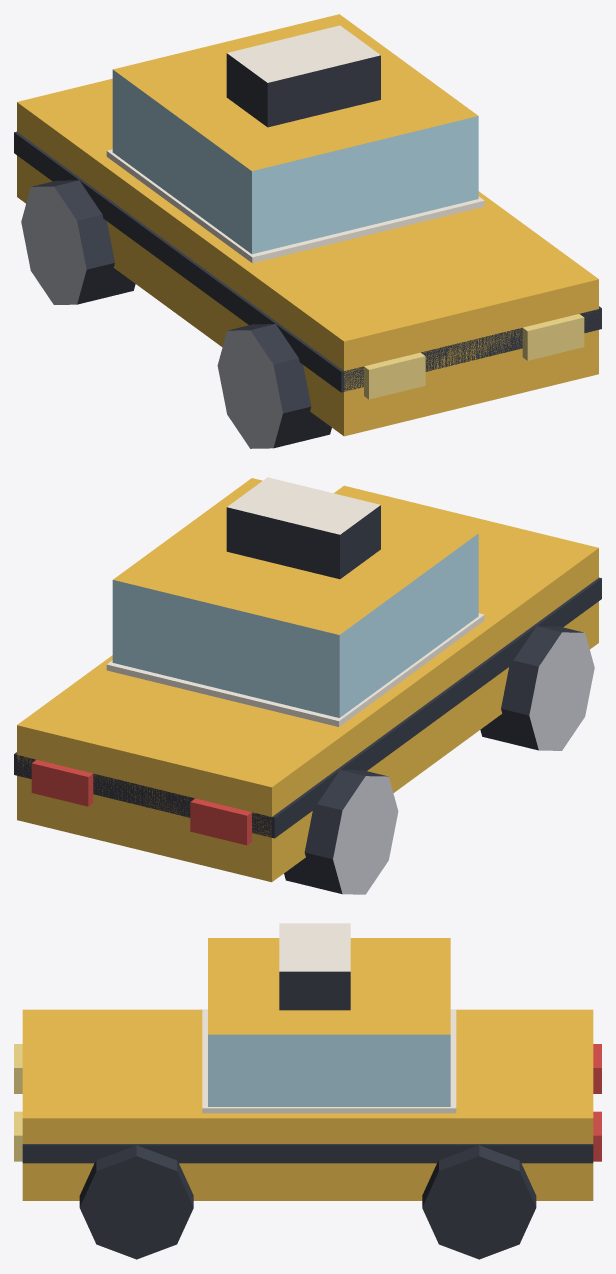
File: vehicle_taxi.glb
The picture shows the model from 3 angles, top to bottom: view 1: azimuth 30°, elevation 25°; view 2: azimuth 150°, elevation 25°; view 3: azimuth 270°, elevation 25°; orthographic projection. The views are drawn at different scales.
Visible parts, largest first — view 1: vehicle_taxi; view 2: vehicle_taxi; view 3: vehicle_taxi.
Boxes of the visible parts, left/top/right/bottom form: vehicle_taxi: left=14, top=14, right=601, bottom=448; vehicle_taxi: left=14, top=477, right=601, bottom=894; vehicle_taxi: left=14, top=923, right=601, bottom=1259.
Size of the model in its own units: 0.11 by 0.095 by 0.206.
